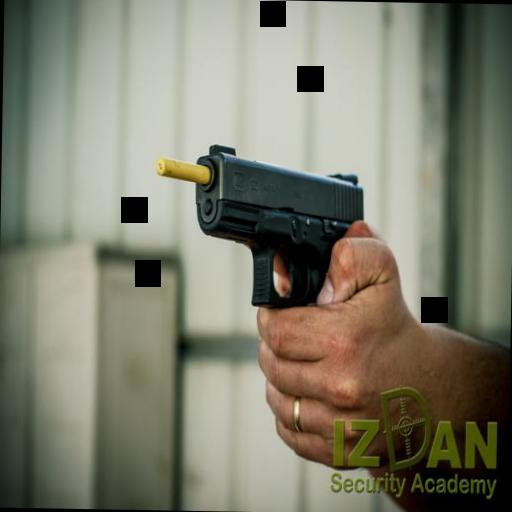Handgun: (191, 145, 364, 311)
